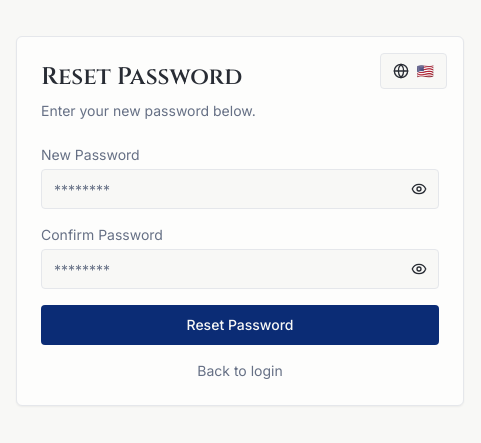
ResetPassword page › shows validation error for empty password
Click the button "Reset Password": (240, 325) [41, 305, 439, 345]
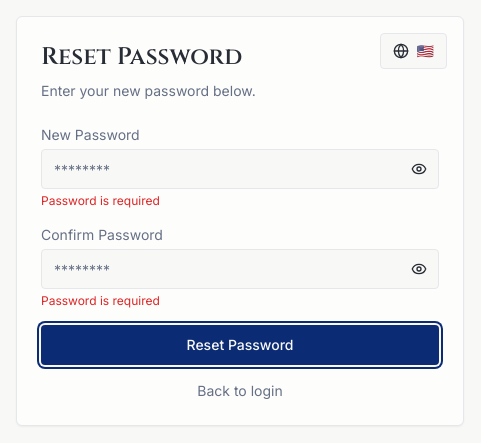
Expected: the text "Password is required" is shown 2 times, [41, 193, 160, 208]; [41, 293, 160, 308]
